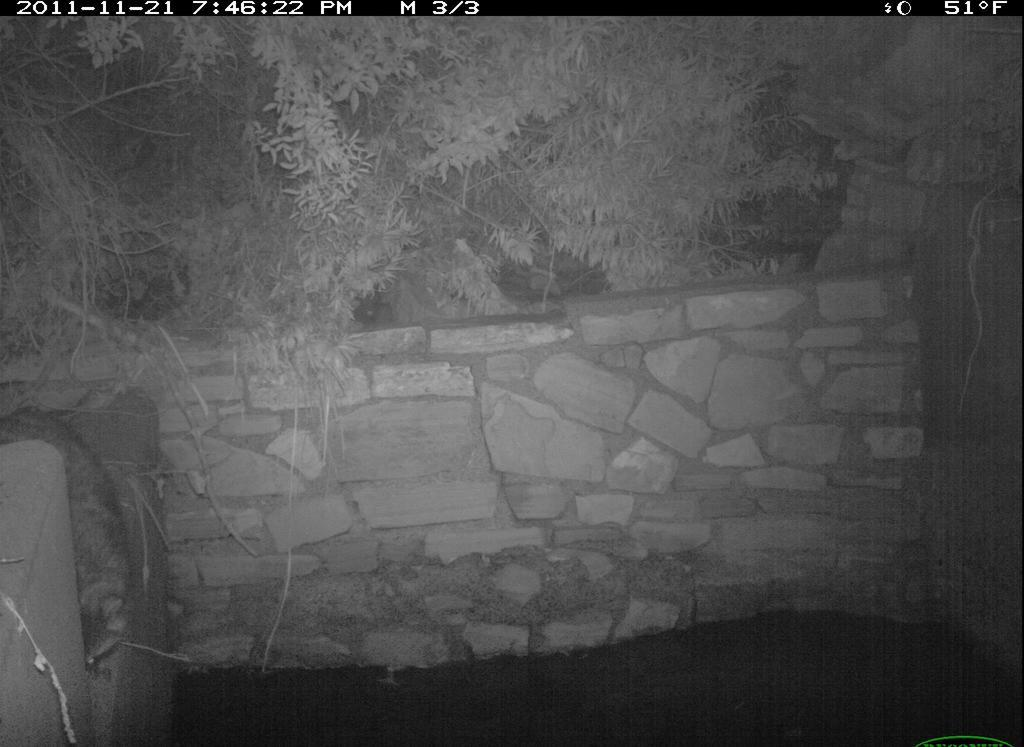raccoon: (6, 405, 148, 675)
